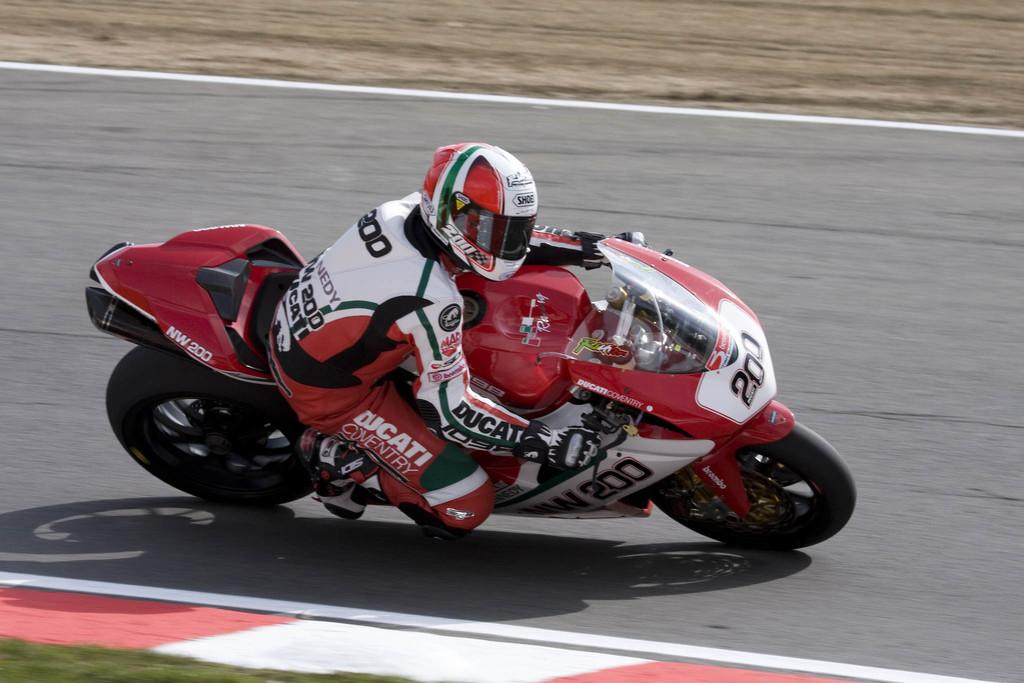helmet: (419, 141, 538, 282)
